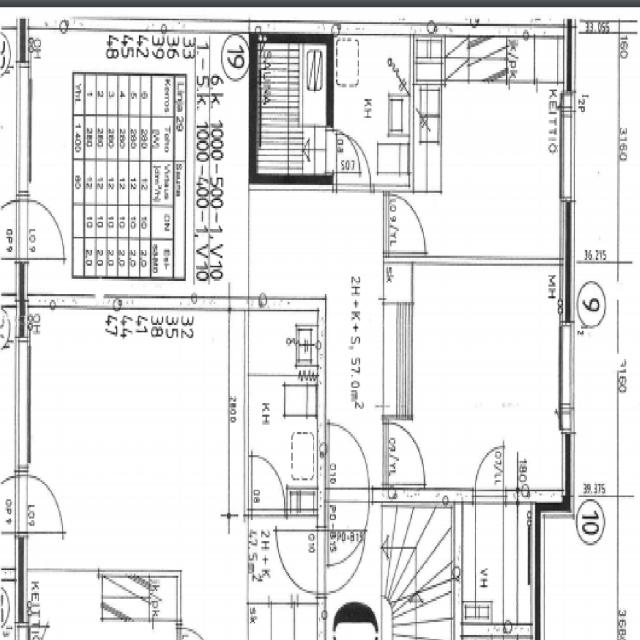door: (328, 488, 368, 565), (328, 426, 368, 502), (16, 201, 65, 258), (383, 424, 425, 484), (383, 196, 424, 253), (337, 131, 370, 190), (0, 201, 30, 258), (475, 446, 503, 501), (326, 130, 360, 173)
